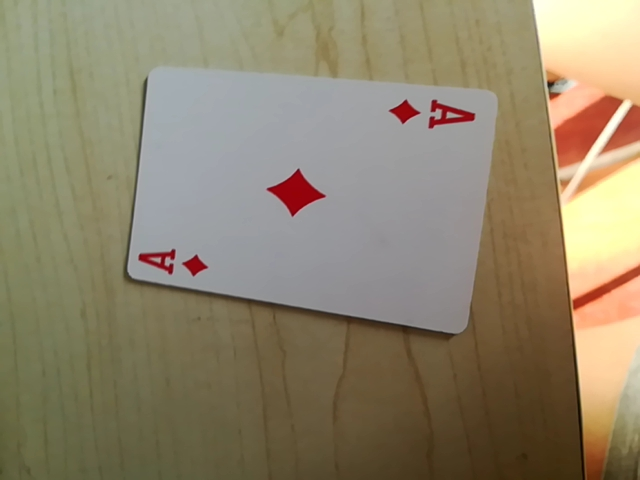fk a: (387, 96, 477, 136), (132, 243, 215, 282)
